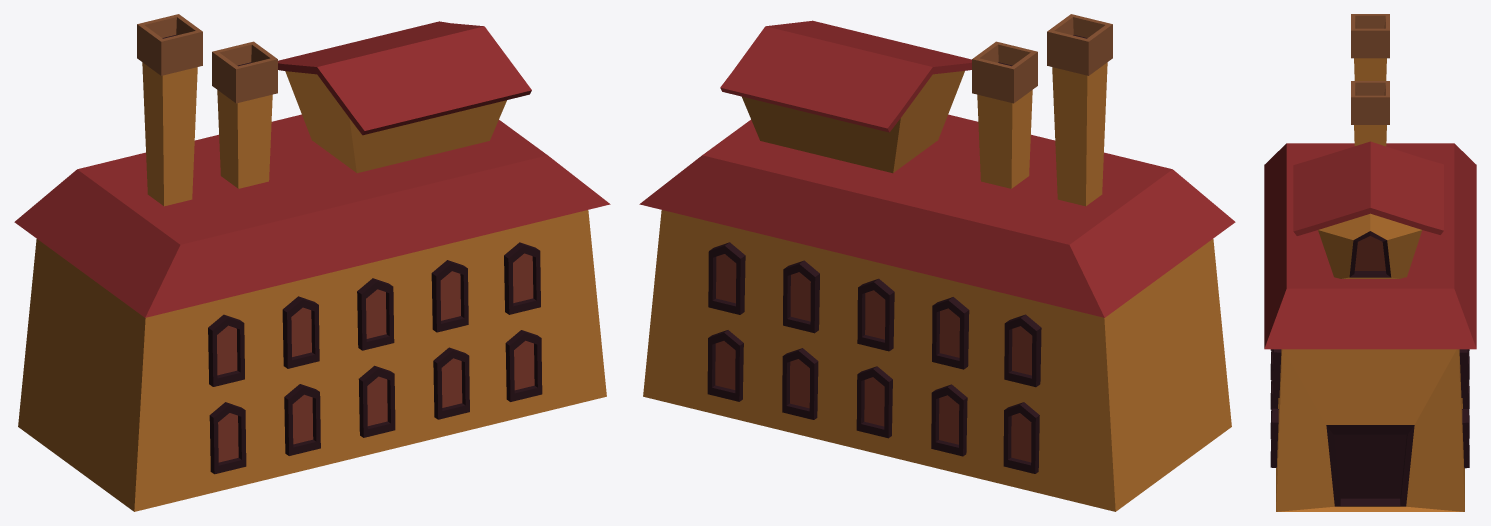
File: house_1.fbx
3 views of the same model, side by side, from view 1: azimuth 30°, elevation 25°; view 2: azimuth 150°, elevation 25°; view 3: azimuth 270°, elevation 25° (orthographic). The views are drawn at different scales.
Visible parts, largest first — view 1: house, roof, house.001, window1.010, chimney.001, chimney.002; view 2: house, roof, house.001, window1.001, chimney.001, chimney.002; view 3: house, roof, house.001, chimney.001, chimney.002, window1.010, window1.001.
Part boxes in pixels (bbox=[...]): house: bbox=[18, 210, 606, 511]; roof: bbox=[14, 114, 610, 317]; house.001: bbox=[278, 21, 531, 173]; window1.010: bbox=[208, 242, 542, 474]; chimney.001: bbox=[137, 14, 202, 206]; chimney.002: bbox=[212, 41, 277, 188]; house: bbox=[643, 210, 1231, 511]; roof: bbox=[639, 114, 1235, 317]; house.001: bbox=[720, 20, 971, 173]; window1.001: bbox=[707, 242, 1041, 473]; chimney.001: bbox=[1047, 14, 1112, 206]; chimney.002: bbox=[972, 41, 1037, 188]; house: bbox=[1276, 349, 1464, 511]; roof: bbox=[1264, 143, 1476, 349]; house.001: bbox=[1293, 141, 1443, 278]; chimney.001: bbox=[1351, 14, 1389, 80]; chimney.002: bbox=[1351, 81, 1389, 146]; window1.010: bbox=[1270, 349, 1281, 467]; window1.001: bbox=[1459, 349, 1469, 468].
Size of the model in its own units: 503 by 425 by 241.
